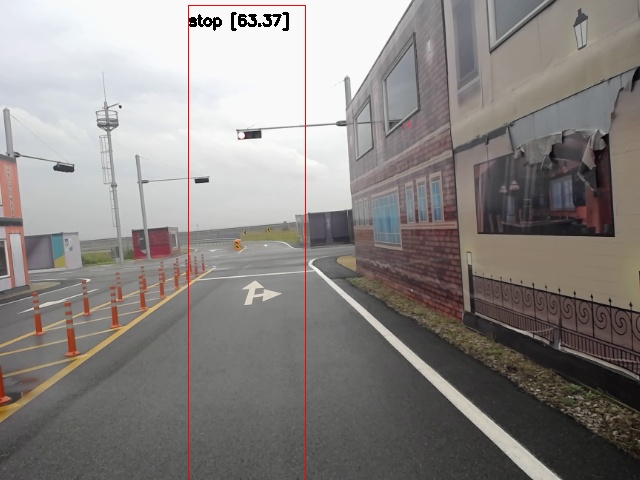red_3: (237, 130, 263, 140)
